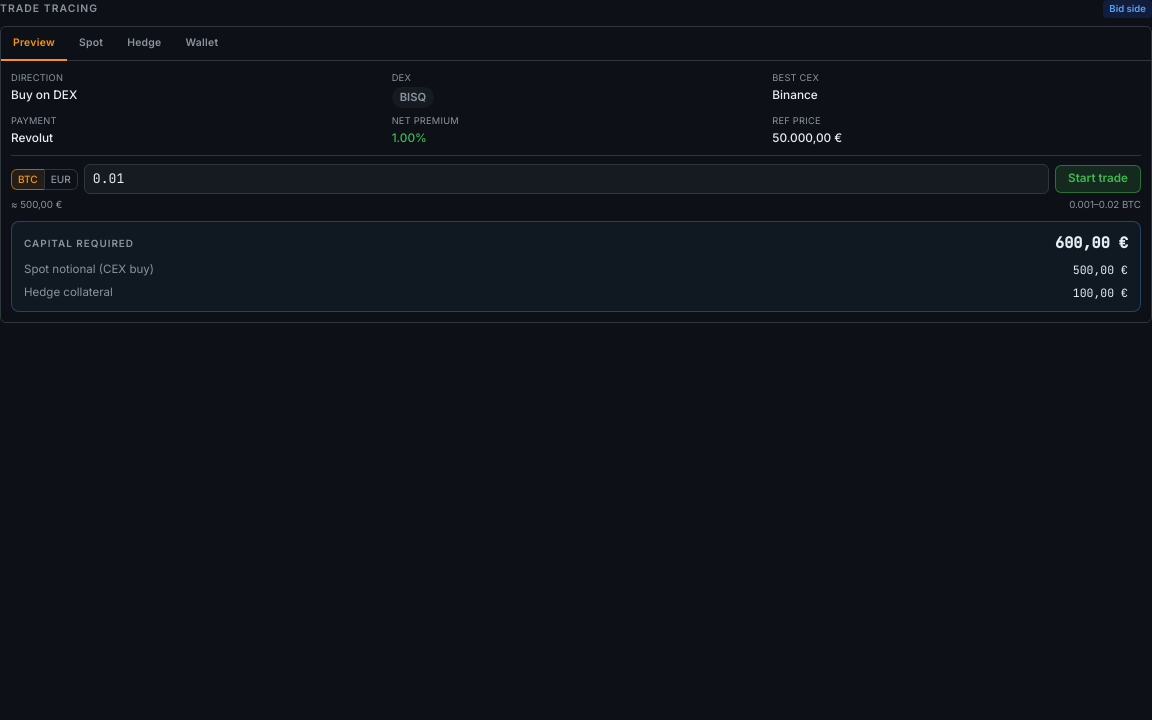
TradeTracingPanel custom quotes › allows confirmation when LSP channel checks pass
Step 1. Click the button "Start trade" → click(1098, 179), box left=1055, top=166, right=1141, bottom=193
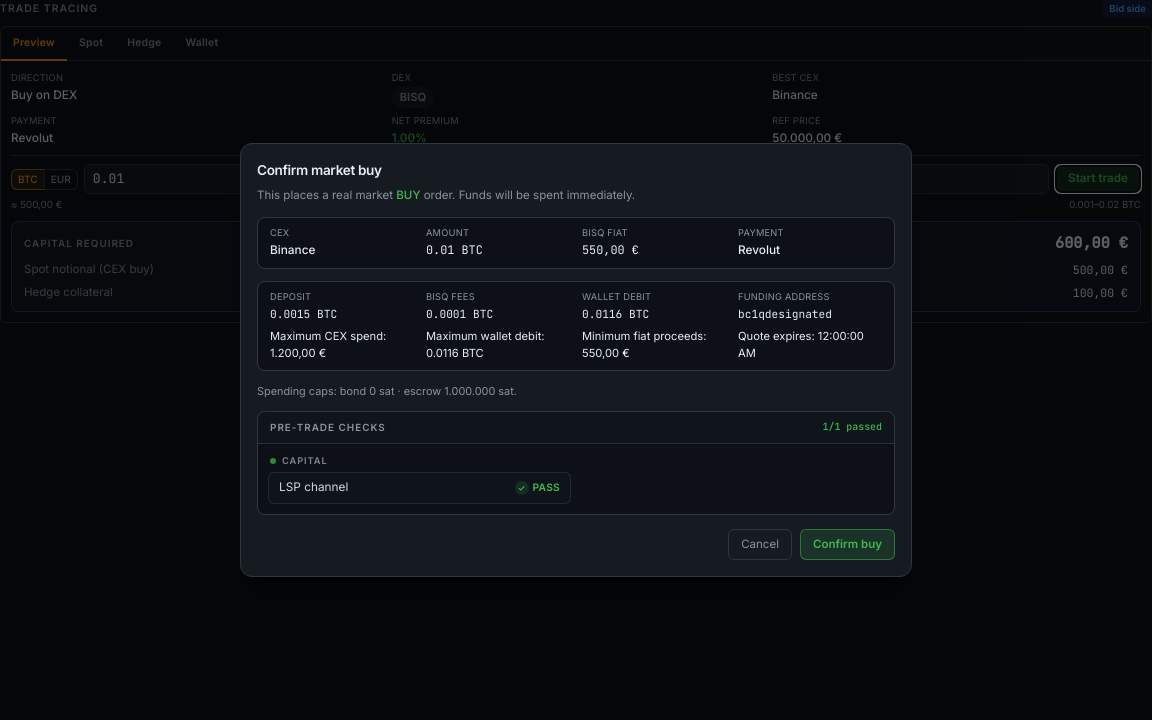
Expected: the button "Confirm buy" is enabled, left=800, top=529, right=895, bottom=560
